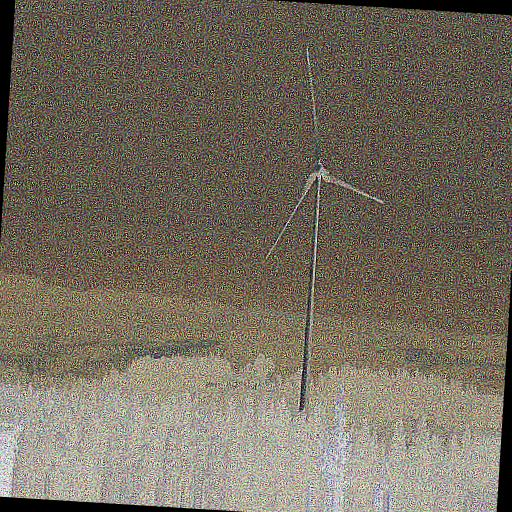wind turbine: (263, 46, 388, 414)
